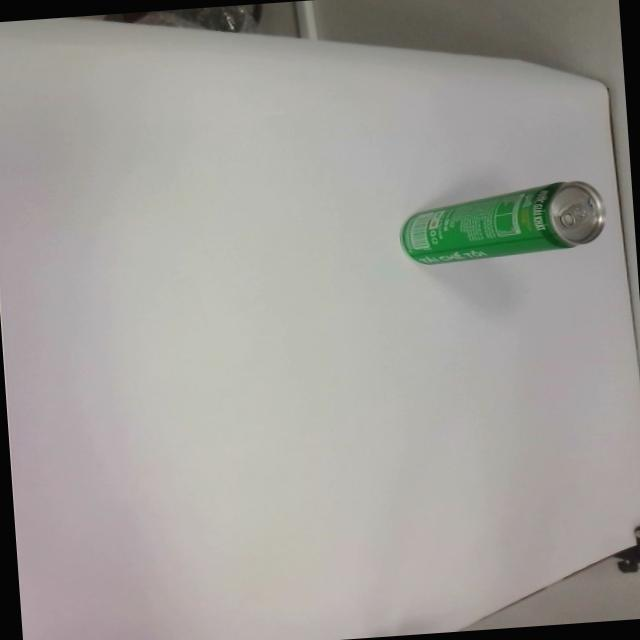debris: (395, 177, 608, 267)
